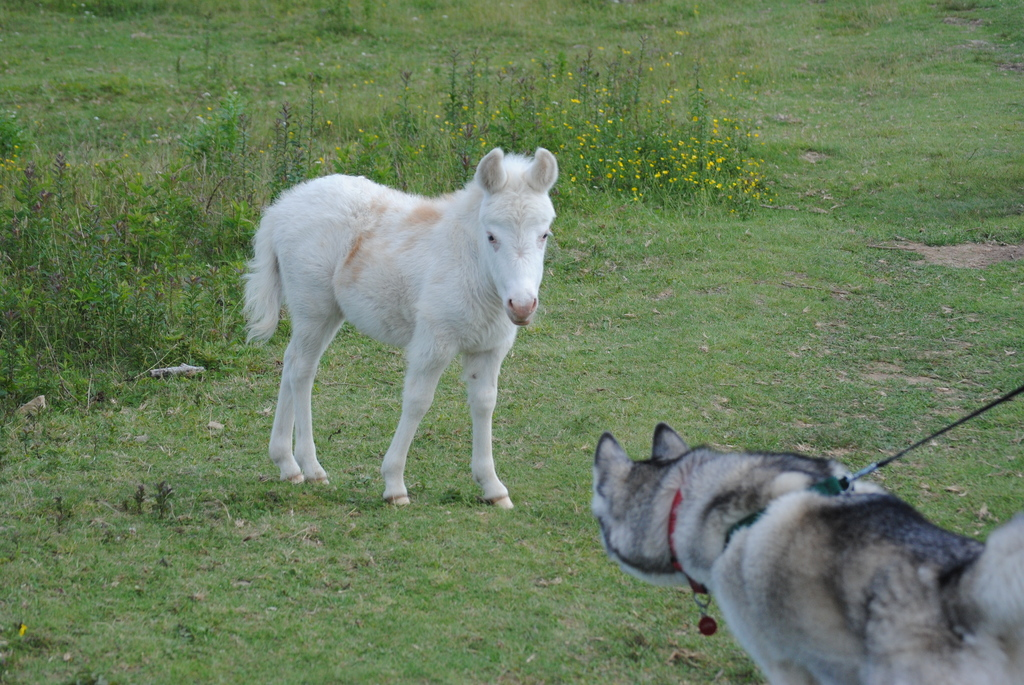horse: (238, 145, 560, 510)
